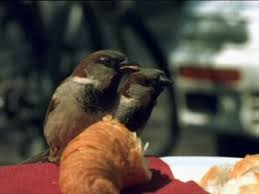hsparrow: (25, 46, 139, 162)
